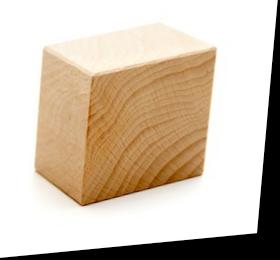cube: (33, 21, 220, 214)
